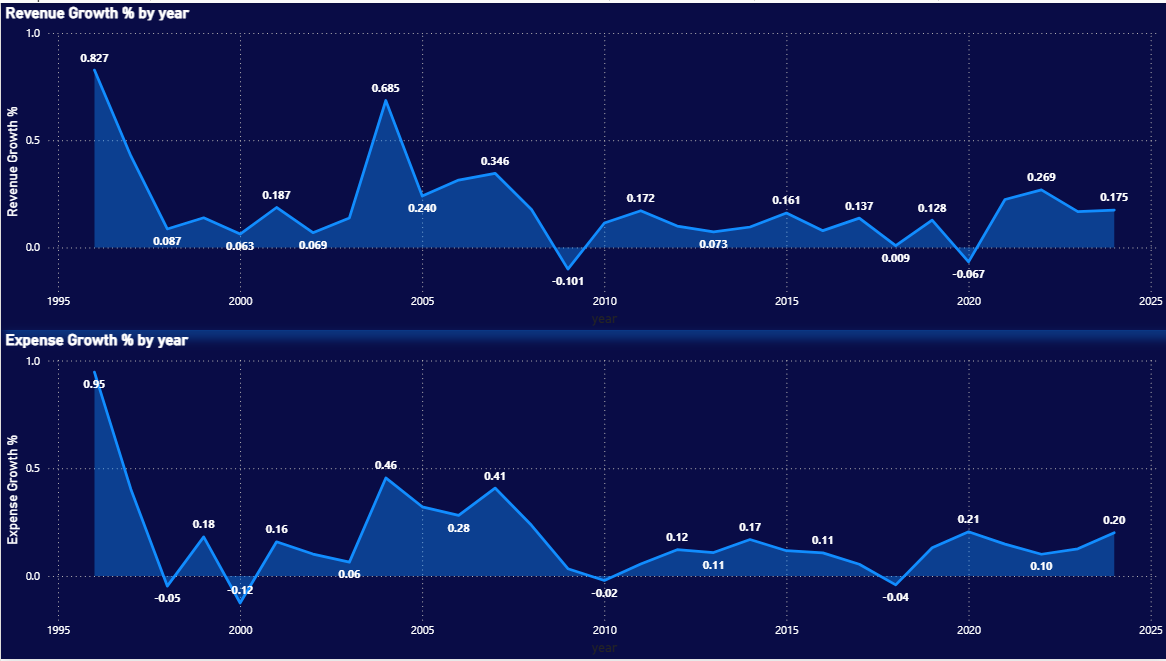

What the dashboard file says about the page in this screenshot:
{"tool":"powerbi","page":{"name":"Page 5","canvas":[1280,720],"ordinal":3},"visuals":[{"type":"lineChart","fields":{"Y":["GG_ge.Revenue Growth %"],"Category":["GG_ge.year"]},"box":[0,0,1280.3,359.5],"z":0},{"type":"lineChart","fields":{"Category":["GG_ge.year"],"Y":["GG_ge.Expense Growth %"]},"box":[0,359.5,1280.3,360.9],"z":1000}]}

Visuals, with their boxes in screenshot pixels (x1, y1, x2, y2), scaled from the page's 1280x720 canvas onto the 1166x661 screenshot:
lineChart - GG_ge.Revenue Growth % x GG_ge.year: box=[0, 0, 1165, 330]
lineChart - GG_ge.year x GG_ge.Expense Growth %: box=[0, 330, 1165, 660]
